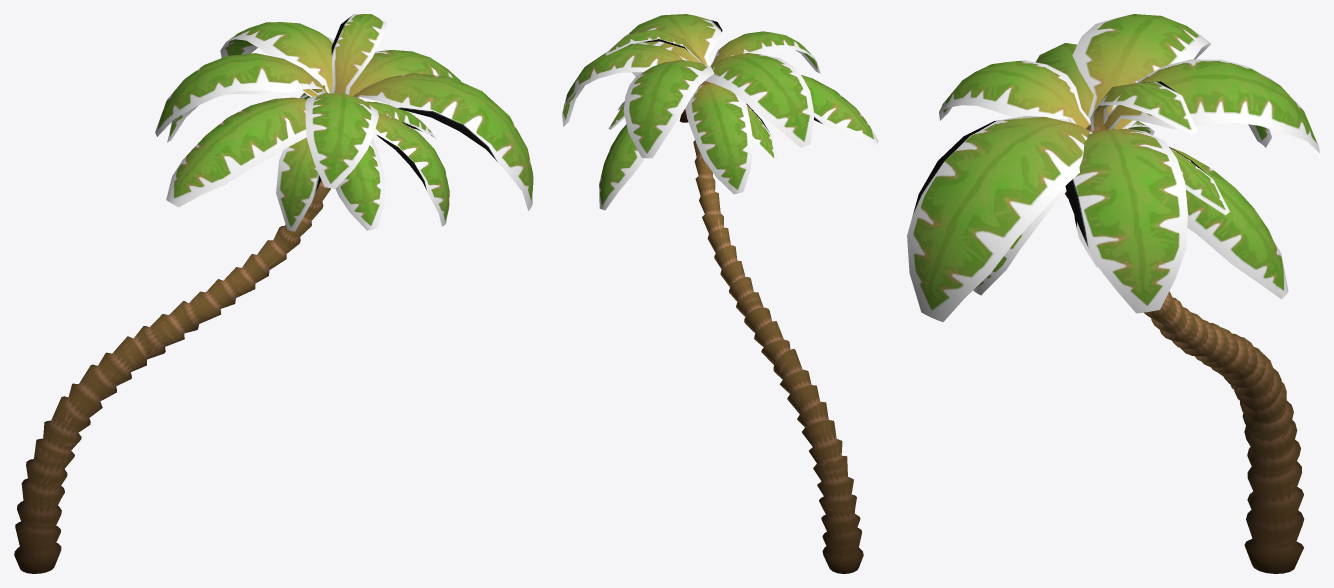
File: palm_bent.glb
The picture shows the model from 3 angles, left to right: view 1: azimuth 30°, elevation 25°; view 2: azimuth 150°, elevation 25°; view 3: azimuth 270°, elevation 25°; orthographic projection. The views are drawn at different scales.
Parts seen in each view (by area): view 1: body; view 2: body; view 3: body.
Boxes of the visible parts, x1,y1,x2,y2 form: body: [14, 14, 533, 573]; body: [562, 14, 878, 573]; body: [907, 14, 1319, 573].
Bounding box in the file's own units: 3.67 × 4.6 × 2.66.
2 materials, 2 textured.
